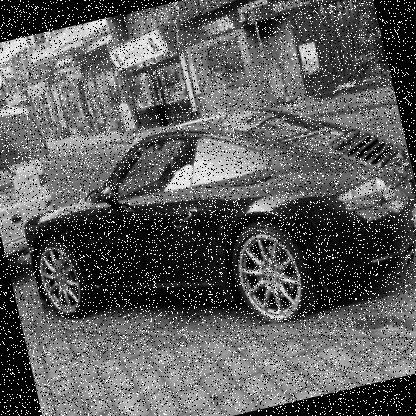Car: (9, 77, 415, 374)
